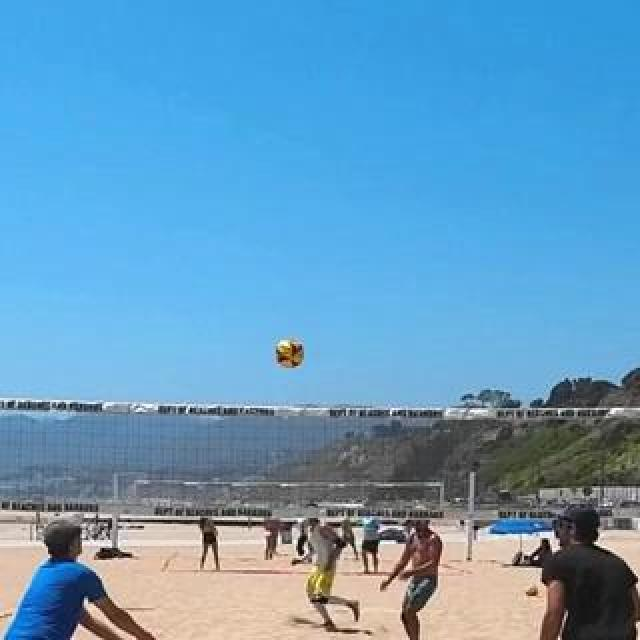volleyball: (276, 337, 306, 367)
